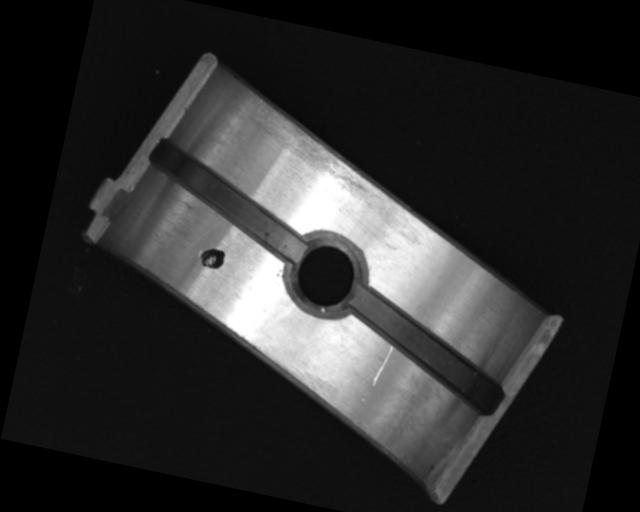blot: (195, 245, 227, 271)
gap: (335, 283, 516, 417), (135, 138, 320, 264)
hole: (280, 225, 371, 324)
nick: (371, 342, 393, 388)
scratch: (242, 98, 405, 204)
